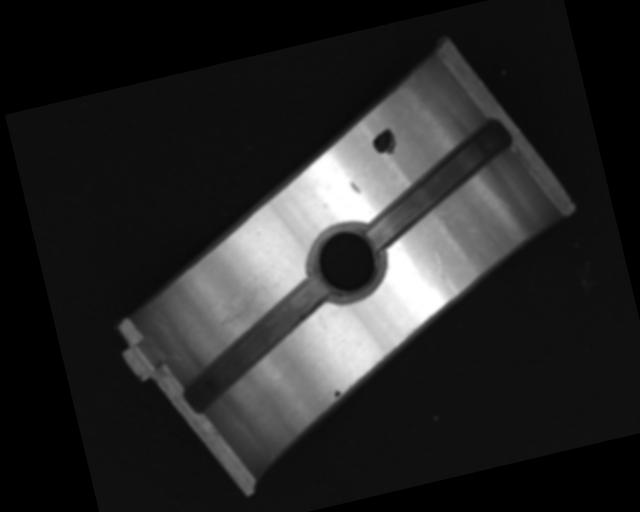blot: (368, 126, 399, 158), (331, 387, 343, 400)
bruise: (429, 247, 461, 299), (350, 178, 362, 196)
gap: (165, 276, 347, 413), (350, 117, 526, 248)
hole: (302, 216, 390, 309)
scratch: (191, 270, 283, 337)
